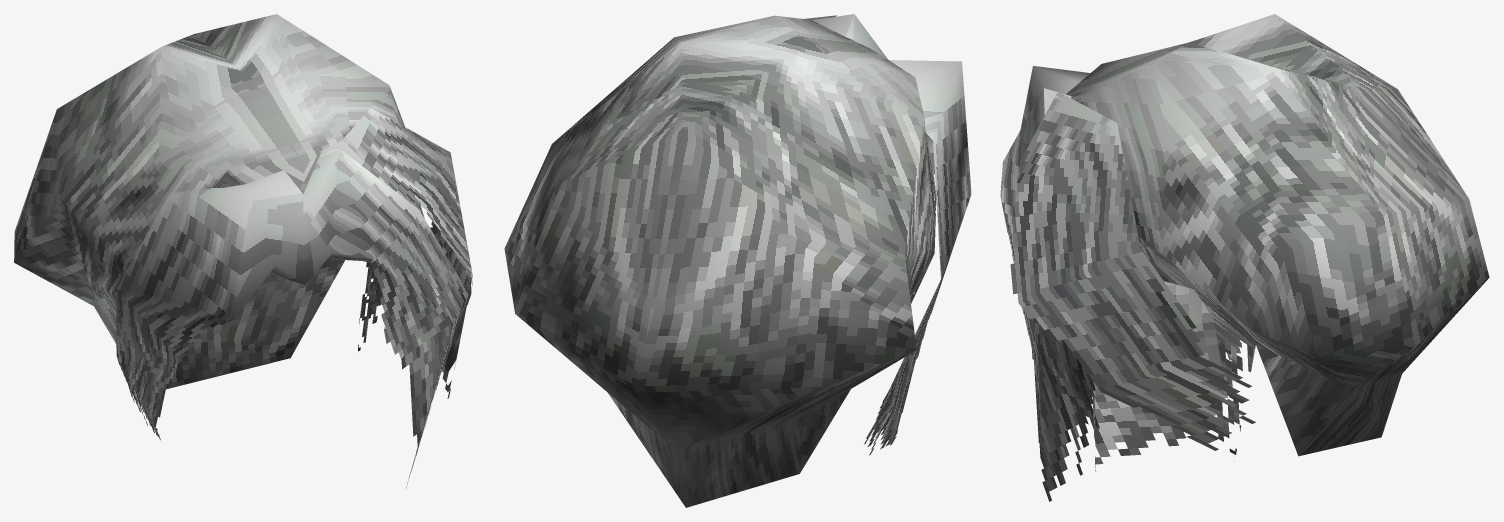
The model's file is HUmar hair9.obj.
3 renders of one model, left to right at view 1: azimuth 30°, elevation 25°; view 2: azimuth 150°, elevation 25°; view 3: azimuth 270°, elevation 25°, orthographic. The views are drawn at different scales.
Visible parts, largest first — view 1: objg_plAhai08_1, objg_plAhai08_3, objg_plAhai08_2; view 2: objg_plAhai08_1, objg_plAhai08_3; view 3: objg_plAhai08_1, objg_plAhai08_3.
Part boxes in pixels (x1,y1,x2,y2): objg_plAhai08_1: [14, 14, 404, 351]; objg_plAhai08_3: [116, 108, 472, 488]; objg_plAhai08_2: [114, 258, 345, 389]; objg_plAhai08_1: [504, 15, 936, 507]; objg_plAhai08_3: [804, 14, 971, 455]; objg_plAhai08_1: [1066, 14, 1489, 461]; objg_plAhai08_3: [1000, 66, 1255, 501].
Bounding box in the file's own units: 1.04 × 1.08 × 1.1.
2 materials, 2 textured.
